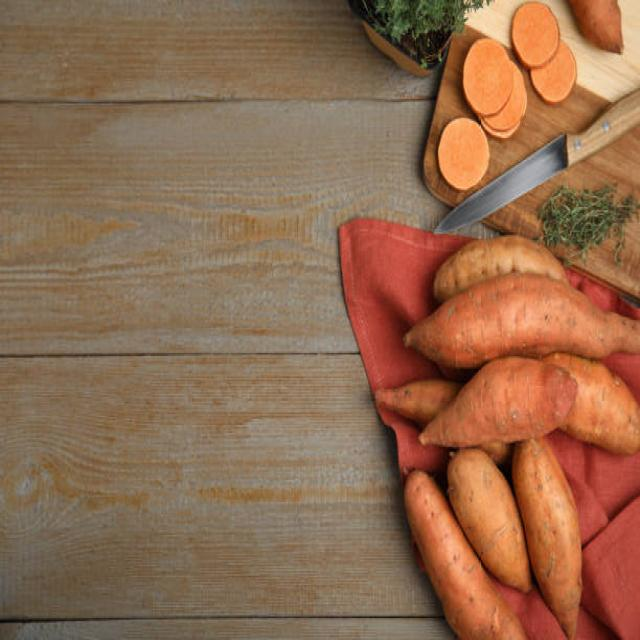Sweet Potato: (438, 116, 491, 190)
Tofu Block: (403, 274, 640, 367), (420, 354, 576, 446), (516, 441, 584, 640), (404, 468, 451, 605), (452, 448, 512, 550), (463, 37, 513, 118), (512, 1, 562, 72), (569, 0, 629, 53)
